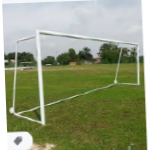goals: (9, 27, 141, 126)
